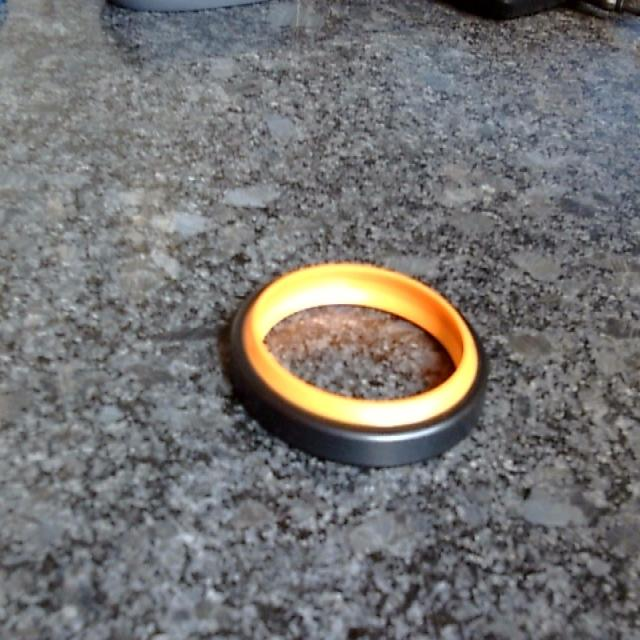orange-2-ring: (231, 263, 488, 467)
